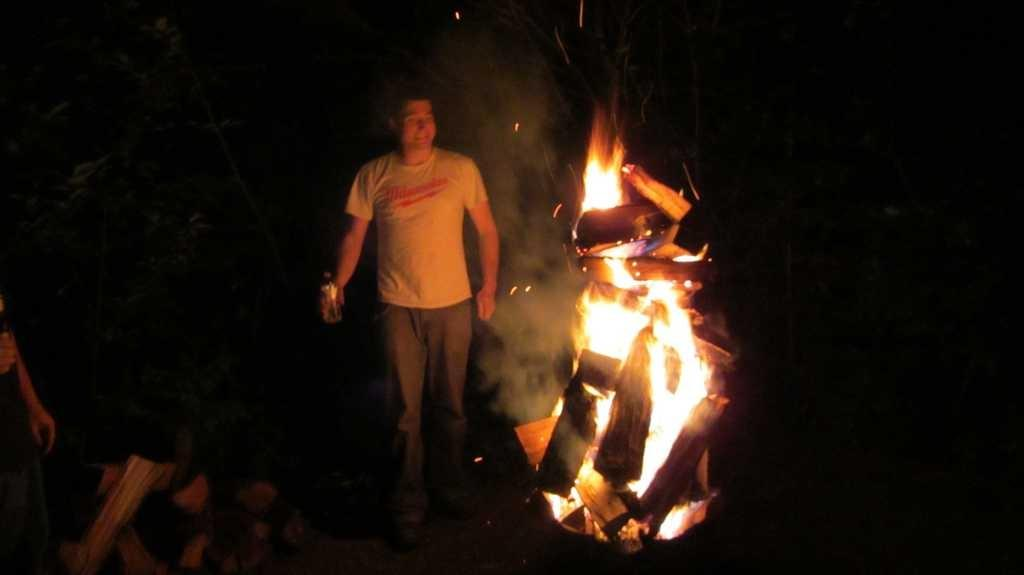fire: (653, 337, 706, 409), (577, 144, 626, 209), (583, 299, 637, 357), (641, 417, 689, 463)
